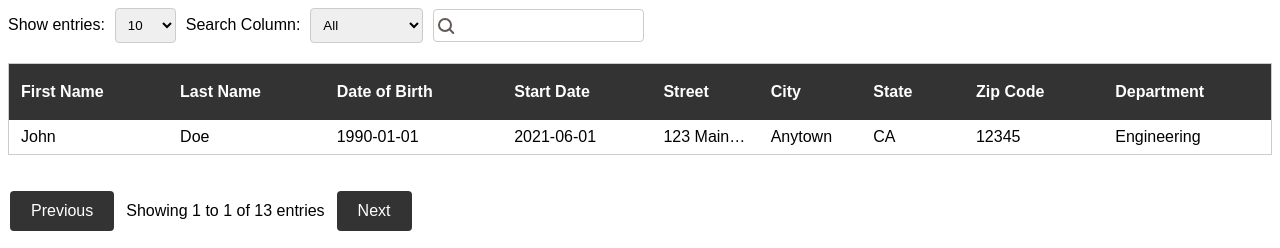
ReactDataTable › paginates data when next button is clicked
This screenshot has width=1280, height=248.
Click the button "Next" at point(374, 211), box [337, 191, 412, 231]
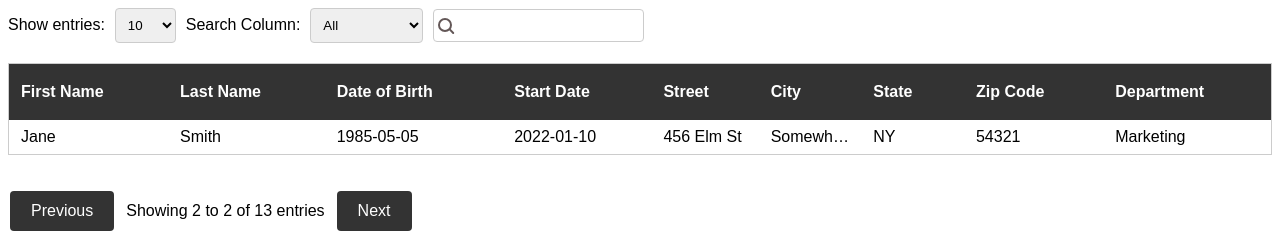
Expected: the text "Jane" is shown, [9, 120, 168, 154]
Expected: the text "John" is gone
